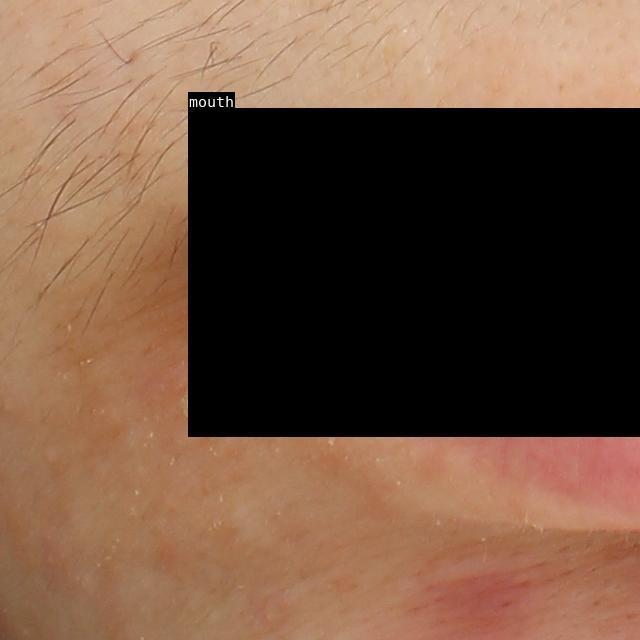hypertrophic_scar: (225, 504, 281, 557)
